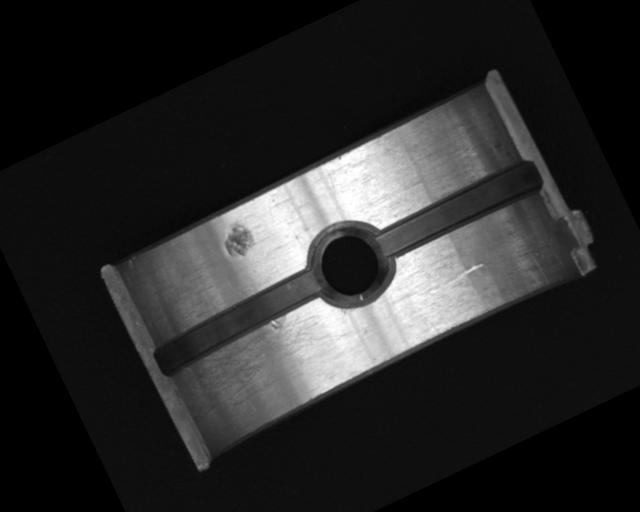bruise: (216, 216, 260, 263)
gap: (147, 262, 333, 380), (368, 155, 547, 268)
hole: (301, 209, 404, 318)
nick: (426, 260, 487, 297)
scratch: (174, 292, 358, 430)
